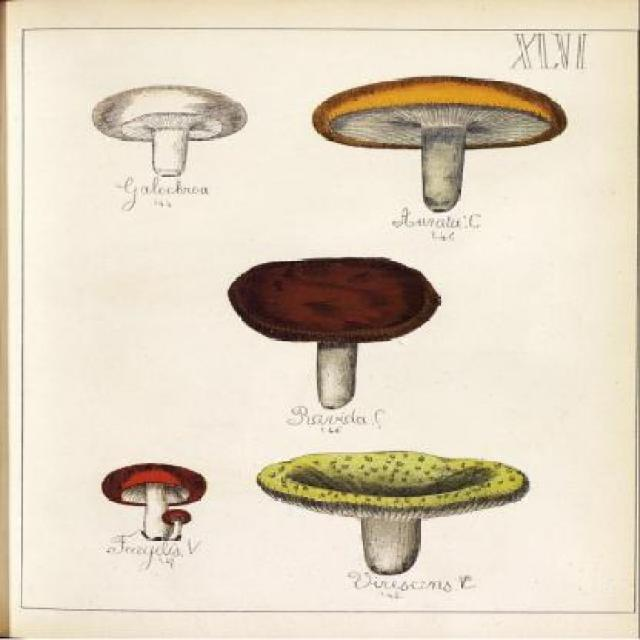Mushroom: (254, 447, 530, 576), (310, 76, 564, 212), (226, 252, 439, 397), (88, 82, 244, 178), (96, 463, 202, 539), (152, 508, 185, 540)
